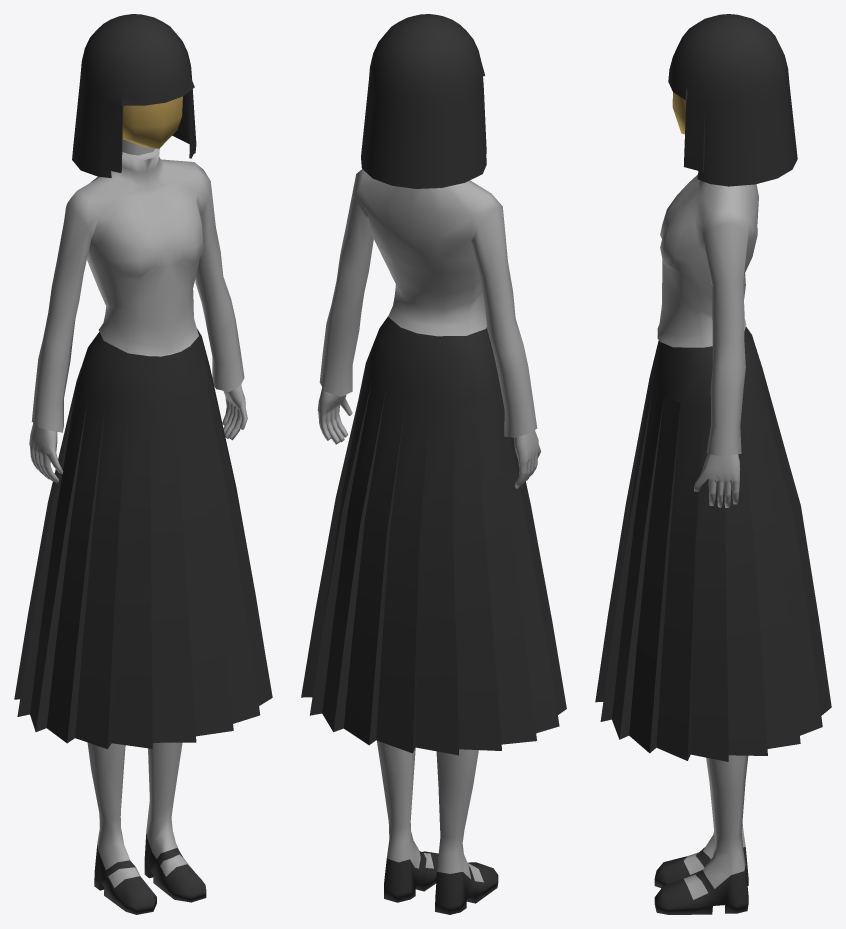
File: npc.fbx
3 views of the same model, side by side, from view 1: azimuth 30°, elevation 25°; view 2: azimuth 150°, elevation 25°; view 3: azimuth 270°, elevation 25° (orthographic). The views are drawn at different scales.
Visible parts, largest first — view 1: polySurface20, polySurface15, polySurface21, legs2, legs4, polySurface22, polySurface24, polySurface25; view 2: polySurface20, polySurface15, polySurface21, legs2, legs4, polySurface25, polySurface24; view 3: polySurface20, polySurface15, polySurface21, legs4, polySurface25, legs2.
Boxes of the visible parts, x1,y1,x2,y2 form: polySurface20: (14,329,272,748); polySurface15: (31,148,244,432); polySurface21: (72,14,196,177); legs2: (87,742,156,914); legs4: (144,742,206,902); polySurface22: (122,96,182,148); polySurface24: (29,423,63,482); polySurface25: (222,385,247,440); polySurface20: (301,317,566,755); polySurface15: (319,169,537,437); polySurface21: (361,14,486,188); legs2: (435,749,498,914); legs4: (377,740,438,902); polySurface25: (317,387,352,444); polySurface24: (514,430,541,488); polySurface20: (595,326,831,761); polySurface15: (657,174,758,455); polySurface21: (668,14,797,186); legs4: (654,755,748,914); polySurface25: (694,453,740,507); legs2: (654,822,748,888).
Bounding box in the file's own units: 0.2827 × 1.01 × 0.2469.
